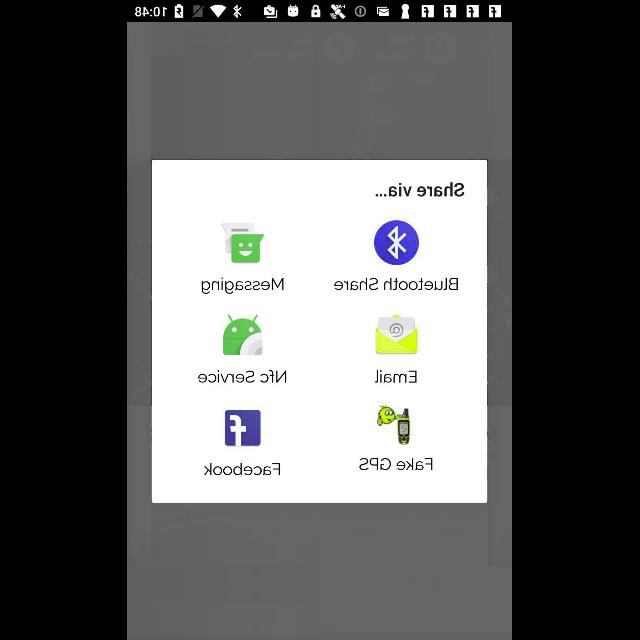icon: (374, 220, 420, 266), (225, 410, 261, 446)
image: (376, 314, 418, 354), (222, 223, 264, 263), (224, 315, 262, 355), (378, 406, 410, 444)
panel: (152, 160, 488, 502)
text: (335, 278, 459, 290), (202, 278, 284, 294), (376, 183, 464, 197), (199, 371, 287, 384), (206, 462, 280, 476), (361, 458, 434, 470), (372, 368, 421, 384)
uppertaskbar: (128, 1, 512, 23)
